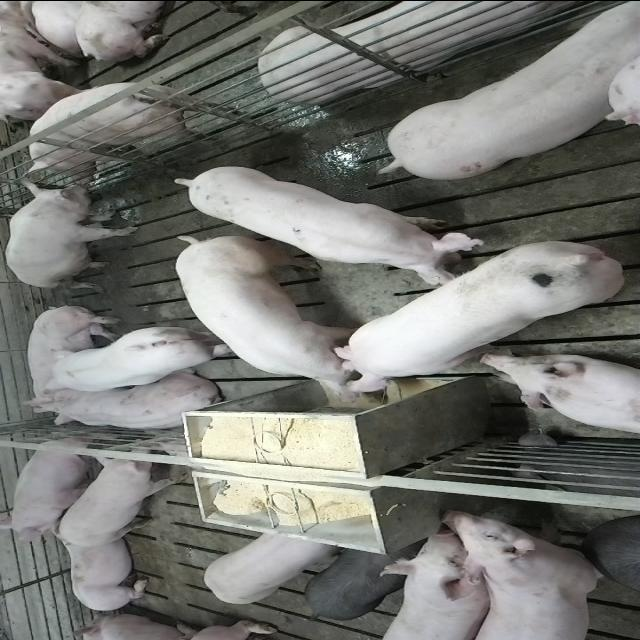Feeding: (332, 232, 624, 394), (170, 240, 382, 410)
Lateral_lying: (16, 304, 122, 414)
Sitting: (5, 180, 141, 286), (2, 437, 99, 543)
Standing: (374, 5, 634, 184), (175, 161, 493, 279), (436, 506, 610, 638), (27, 82, 233, 186), (60, 446, 191, 545), (48, 324, 238, 391), (374, 533, 492, 640), (203, 528, 339, 602), (301, 545, 411, 621), (582, 517, 638, 603)
Sternal_lying: (261, 0, 598, 100), (482, 352, 640, 437), (51, 520, 155, 612)
